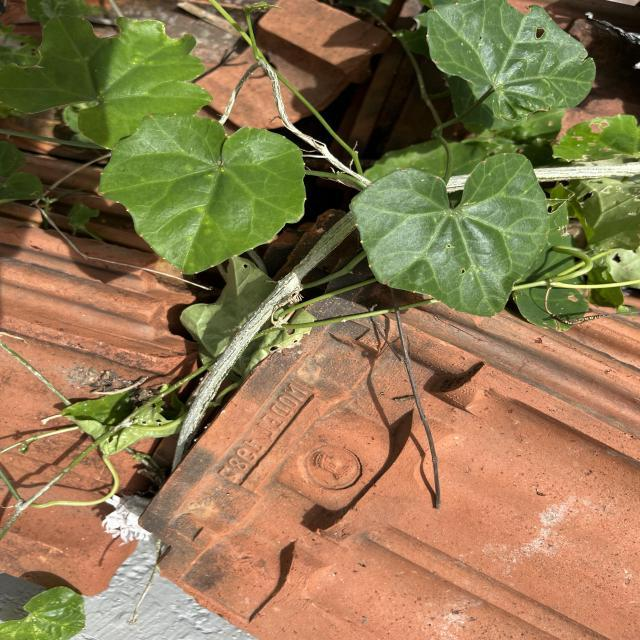Coccinia grandis: (94, 110, 310, 279), (345, 150, 553, 320)
